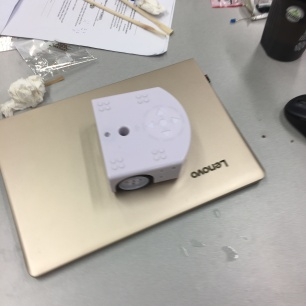thymio: (86, 84, 193, 195)
